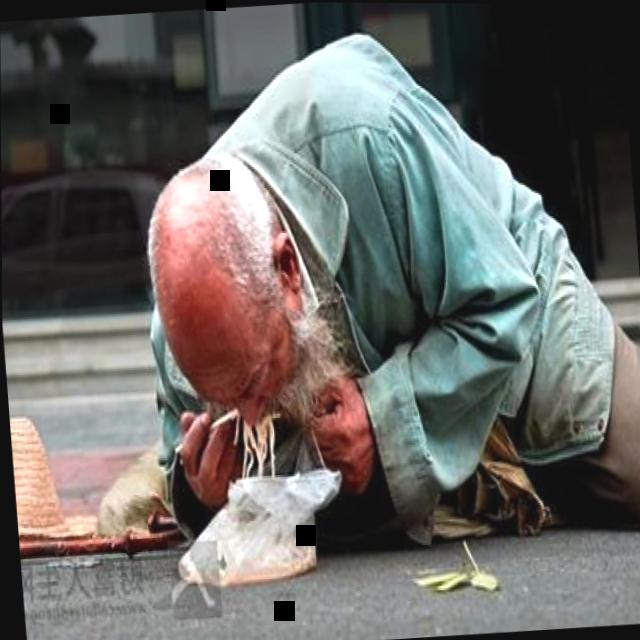Fall-Detected: (102, 1, 640, 576)
